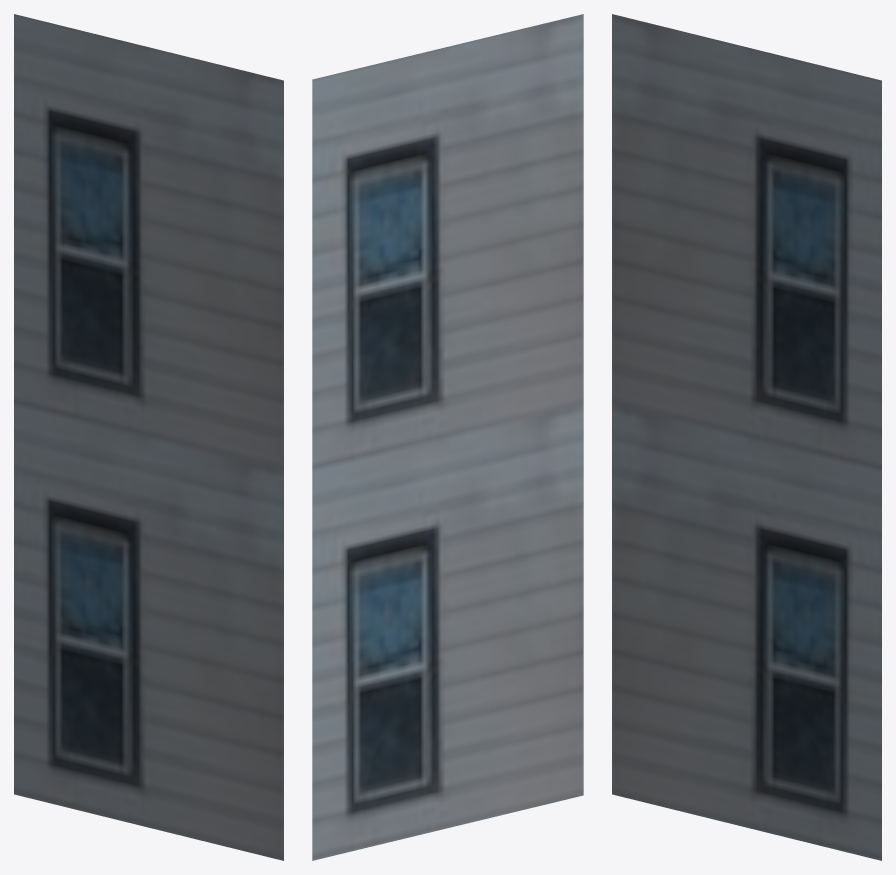
File: ResTex__3898.fbx
3 views of the same model, side by side, from view 1: azimuth 90°, elevation 25°; view 2: azimuth 150°, elevation 25°; view 3: azimuth 270°, elevation 25° (orthographic).
Visible parts, largest first — view 1: CityEngineMaterial_18_m; view 2: CityEngineMaterial_18_m; view 3: CityEngineMaterial_18_m.
Part boxes in pixels (x1,y1,x2,y2): CityEngineMaterial_18_m: (14,14,283,860); CityEngineMaterial_18_m: (312,14,583,860); CityEngineMaterial_18_m: (612,14,881,860).
Bounding box in the file's own units: 1.1 × 6 × 1.88.
Materials: 1 (1 with a texture image).
